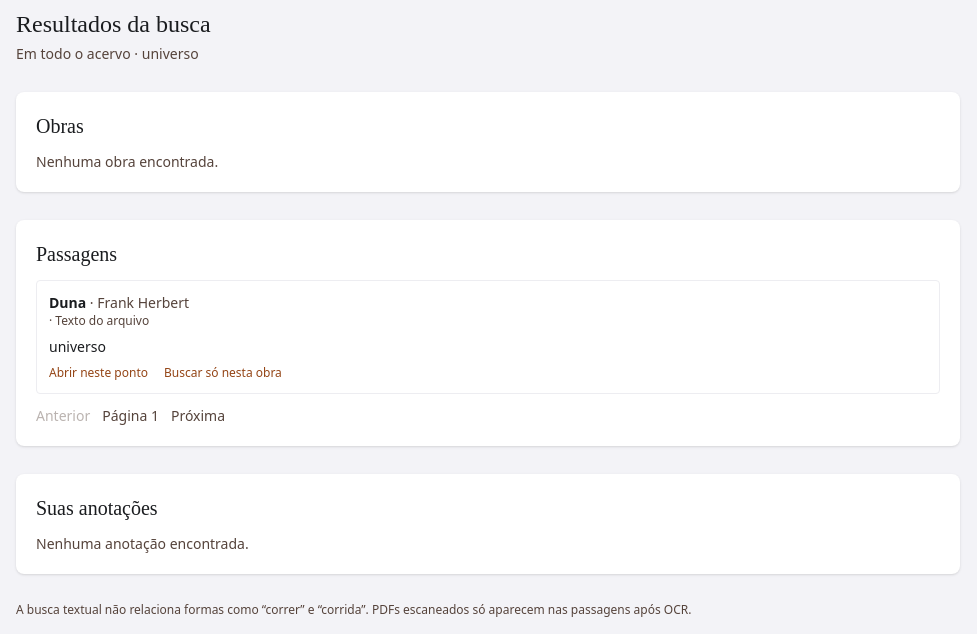
Test: loads the next passage page using the backend offset
The image size is (977, 634).
Step 1. Click the button "Próxima" → (198, 416), box [171,406,225,426]
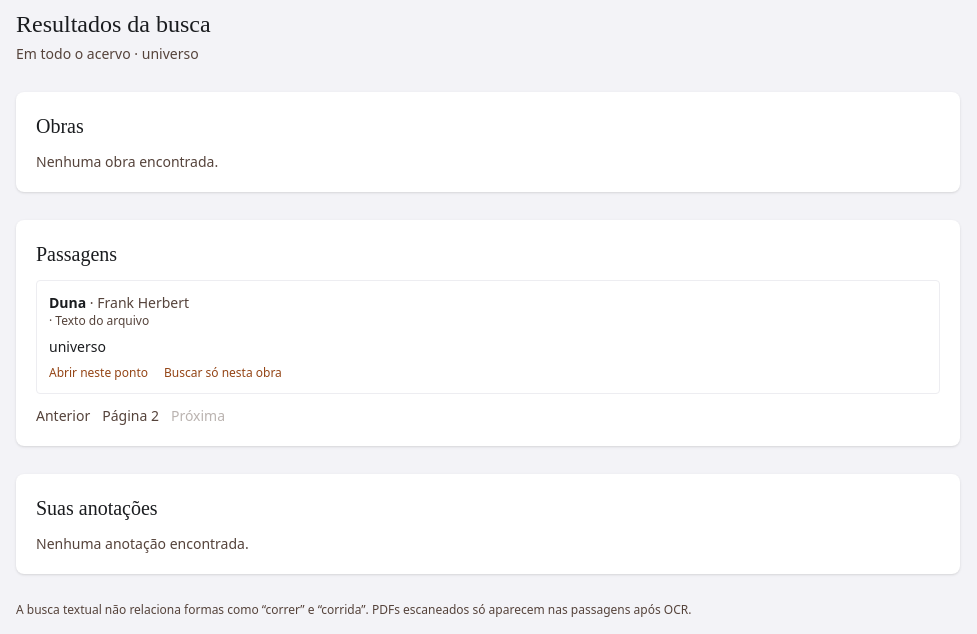
Expected: the element named "Passagens" shows "Página 2", [16,220,960,446]
